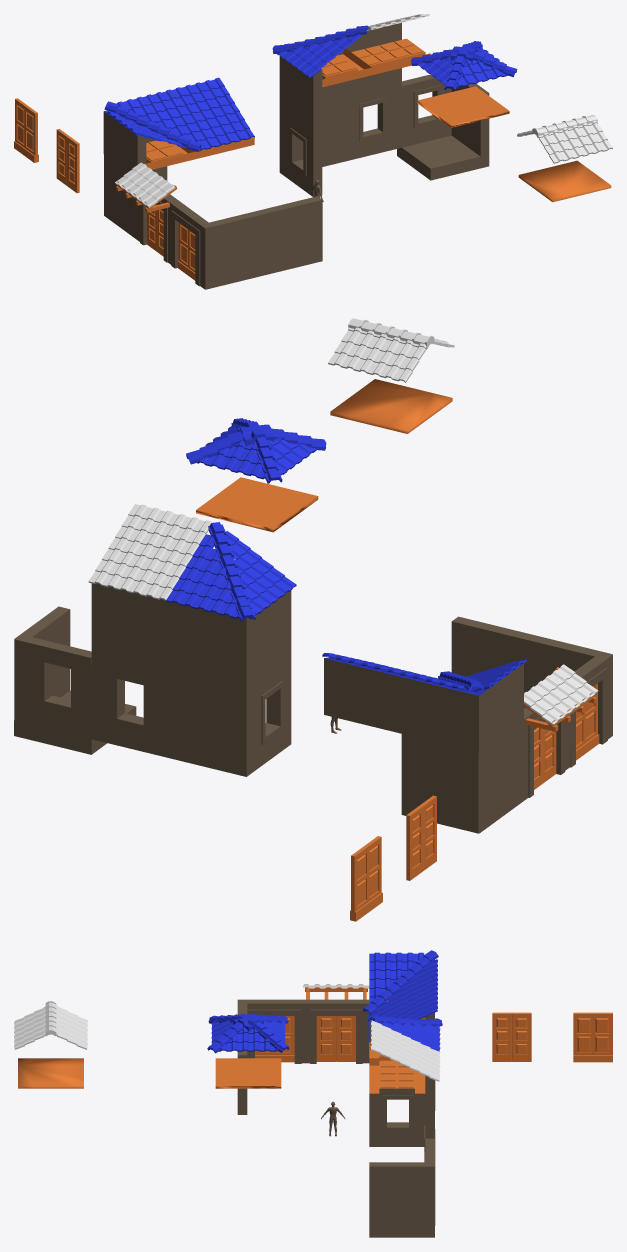
Rendered from RuinasCASA_Fix2.fbx.
The picture shows the model from 3 angles, top to bottom: view 1: azimuth 30°, elevation 25°; view 2: azimuth 150°, elevation 25°; view 3: azimuth 270°, elevation 25°; orthographic projection. The views are drawn at different scales.
Visible parts, largest first — view 1: Casa telhado canto, base peca 2.004, Patio telhado canto, Casa telhado topo central, Casa telhado topo meio, Patio telhado meio, base peca 2.001, Parede meio, Casa telhado meio, Casa quina janela, Casa parede janela, ex tile tamanho (+7 smaller); view 2: Casa telhado canto, Casa telhado meio, base peca 2.001, Parede canto, Casa telhado topo central, Patio telhado canto, Casa telhado topo meio, Casa quina janela, Casa parede janela, Patio telhado meio, base peca 2.004, Parede meio (+7 smaller); view 3: Casa telhado topo central, Casa quina janela, Casa telhado topo meio, Casa telhado meio, Patio telhado canto, base peca 2.001, porta meio, porta 2.001, Porta.001, Porta, base peca 2.004, Casa telhado canto (+4 smaller).
Part boxes in pixels (<box>): Casa telhado canto: <box>272,25,371,135</box>; base peca 2.004: <box>171,201,263,289</box>; Patio telhado canto: <box>103,92,201,171</box>; Casa telhado topo central: <box>411,41,517,127</box>; Casa telhado topo meio: <box>517,114,612,202</box>; Patio telhado meio: <box>161,77,254,158</box>; base peca 2.001: <box>279,101,343,196</box>; Parede meio: <box>259,196,322,275</box>; Casa telhado meio: <box>343,14,430,100</box>; Casa quina janela: <box>402,74,489,156</box>; Casa parede janela: <box>343,86,401,161</box>; ex tile tamanho: <box>397,135,489,180</box>; Casa telhado canto: <box>166,522,296,695</box>; Casa telhado meio: <box>88,504,212,676</box>; base peca 2.001: <box>169,663,291,776</box>; Parede canto: <box>401,720,523,833</box>; Casa telhado topo central: <box>186,418,326,532</box>; Patio telhado canto: <box>400,659,526,752</box>; Casa telhado topo meio: <box>328,318,454,433</box>; Casa quina janela: <box>14,606,91,738</box>; Casa parede janela: <box>91,658,168,757</box>; Patio telhado meio: <box>322,653,437,733</box>; base peca 2.004: <box>529,635,612,767</box>; Parede meio: <box>451,616,535,707</box>; Casa telhado topo central: <box>207,1013,289,1088</box>; Casa quina janela: <box>369,1138,435,1226</box>; Casa telhado topo meio: <box>14,1001,87,1088</box>; Casa telhado meio: <box>369,1020,440,1138</box>; Patio telhado canto: <box>362,950,438,1019</box>; base peca 2.001: <box>369,1088,425,1146</box>; porta meio: <box>303,999,369,1063</box>; porta 2.001: <box>573,1012,612,1062</box>; Porta.001: <box>492,1012,531,1061</box>; Porta: <box>316,1016,355,1061</box>; base peca 2.004: <box>237,999,303,1063</box>; Casa telhado canto: <box>368,1015,442,1110</box>.
Bounding box in the file's own units: 54.56 × 18.18 × 38.38.
